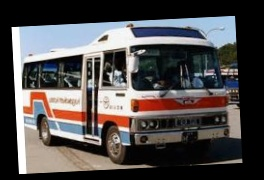bus: (21, 20, 232, 167)
